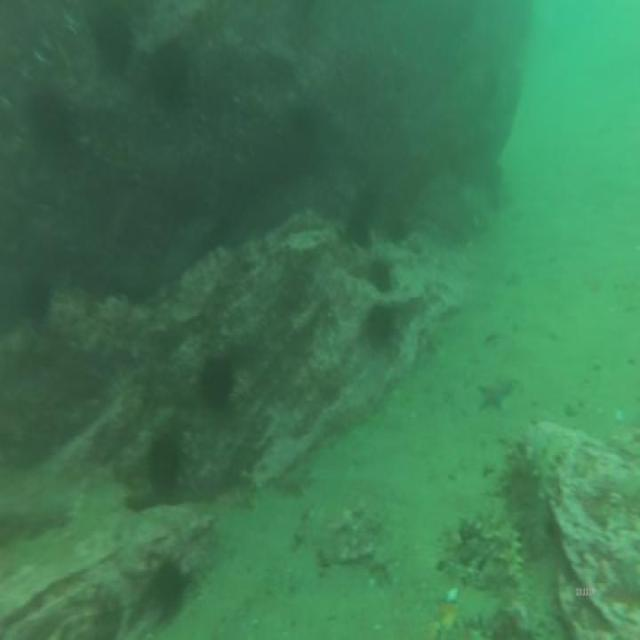echinus: (137, 422, 185, 509), (150, 35, 197, 114), (92, 8, 140, 85), (147, 548, 190, 623), (197, 349, 240, 419), (366, 295, 398, 354)
holothurian: (533, 434, 571, 562)
starfish: (476, 368, 512, 414)
